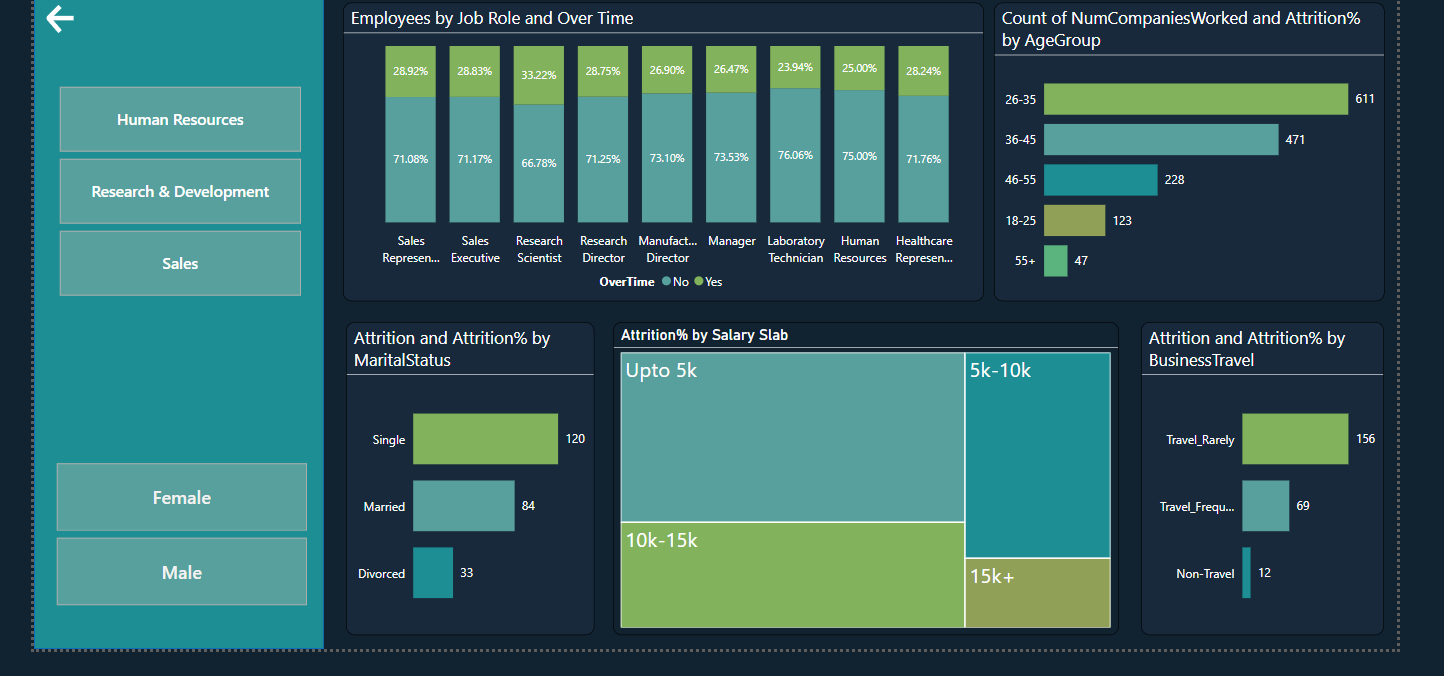

Layout of this report page (visuals, bound fields, positions):
{"tool":"powerbi","page":{"name":"Page 2","canvas":[1515,730],"ordinal":1},"visuals":[{"type":"clusteredBarChart","title":"Attrition by Marital Status","fields":{"Category":["HR_Analytics.MaritalStatus"],"Y":["Measures (2).Attrition"]},"box":[346,366,276,348],"z":0},{"type":"hundredPercentStackedColumnChart","title":" Employees by Job Role and Over Time","fields":{"Category":["HR_Analytics.JobRole"],"Series":["HR_Analytics.OverTime"],"Y":["Measures (2).Total Employees"]},"box":[344,12,712,332],"z":1000},{"type":"treemap","title":"Attrition% by Salary Slab","fields":{"Group":["HR_Analytics.SalarySlab"],"Values":["Measures (2).Attrition"]},"box":[645,365,562.5,350],"z":2000},{"type":"shape","box":[0,0,322,730],"z":3000},{"type":"actionButton","box":[10,10,50,40],"z":4000},{"type":"advancedSlicerVisual","fields":{"Values":["HR_Analytics.Gender"]},"box":[20,518,288,168],"z":5000},{"type":"advancedSlicerVisual","fields":{"Values":["HR_Analytics.Department"]},"box":[24,100,278,244],"z":6000},{"type":"clusteredBarChart","title":" Num Of Companies Worked and Attrition  by Age Group","fields":{"Category":["HR_Analytics.AgeGroup"],"Y":["CountNonNull(HR_Analytics.NumCompaniesWorked)"]},"box":[1066,12,434,332],"z":7000},{"type":"clusteredBarChart","title":"Attrition by Business Travel","fields":{"Category":["HR_Analytics.BusinessTravel"],"Y":["Measures (2).Attrition"]},"box":[1230,366,270,348],"z":8000}]}

Visuals, with their boxes in screenshot pixels (x1, y1, x2, y2), scaled from the page's 1515x730 canvas onto the 1444x676 screenshot:
"Attrition by Marital Status" clusteredBarChart: {"x1": 330, "y1": 339, "x2": 593, "y2": 661}
" Employees by Job Role and Over Time" hundredPercentStackedColumnChart: {"x1": 328, "y1": 11, "x2": 1007, "y2": 319}
"Attrition% by Salary Slab" treemap: {"x1": 615, "y1": 338, "x2": 1151, "y2": 662}
shape: {"x1": 0, "y1": 0, "x2": 307, "y2": 675}
actionButton: {"x1": 10, "y1": 9, "x2": 57, "y2": 46}
advancedSlicerVisual - HR_Analytics.Gender: {"x1": 19, "y1": 480, "x2": 294, "y2": 635}
advancedSlicerVisual - HR_Analytics.Department: {"x1": 23, "y1": 93, "x2": 288, "y2": 319}
" Num Of Companies Worked and Attrition  by Age Group" clusteredBarChart: {"x1": 1016, "y1": 11, "x2": 1430, "y2": 319}
"Attrition by Business Travel" clusteredBarChart: {"x1": 1172, "y1": 339, "x2": 1430, "y2": 661}
